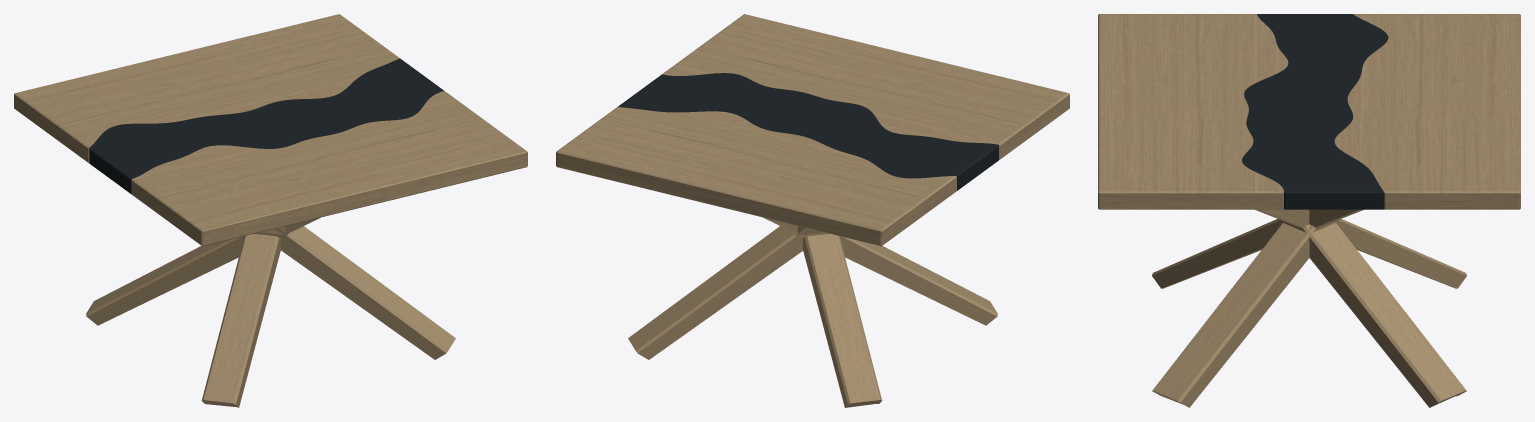
The model's file is square-ash-epoxy-black.glb.
The picture shows the model from 3 angles, left to right: view 1: azimuth 30°, elevation 25°; view 2: azimuth 150°, elevation 25°; view 3: azimuth 270°, elevation 25°; orthographic projection. The views are drawn at different scales.
Parts seen in each view (by area): view 1: Wood_Square_EpoxyFar, Wood_Square_EpoxyNear, Base_Square, Resin_Square; view 2: Wood_Square_EpoxyNear, Wood_Square_EpoxyFar, Base_Square, Resin_Square; view 3: Wood_Square_EpoxyFar, Wood_Square_EpoxyNear, Base_Square, Resin_Square.
Boxes of the visible parts, left/top/right/bottom form: Wood_Square_EpoxyFar: left=131, top=91, right=527, bottom=246; Wood_Square_EpoxyNear: left=14, top=14, right=399, bottom=162; Base_Square: left=86, top=217, right=455, bottom=407; Resin_Square: left=89, top=58, right=443, bottom=194; Wood_Square_EpoxyNear: left=556, top=107, right=956, bottom=246; Wood_Square_EpoxyFar: left=662, top=14, right=1069, bottom=159; Base_Square: left=628, top=217, right=997, bottom=407; Resin_Square: left=618, top=73, right=998, bottom=190; Wood_Square_EpoxyFar: left=1098, top=14, right=1288, bottom=209; Wood_Square_EpoxyNear: left=1334, top=14, right=1520, bottom=209; Base_Square: left=1152, top=209, right=1466, bottom=407; Resin_Square: left=1242, top=14, right=1388, bottom=209.
Bounding box in the file's own units: 1.22 × 0.762 × 1.22.
2 materials, 1 textured.
